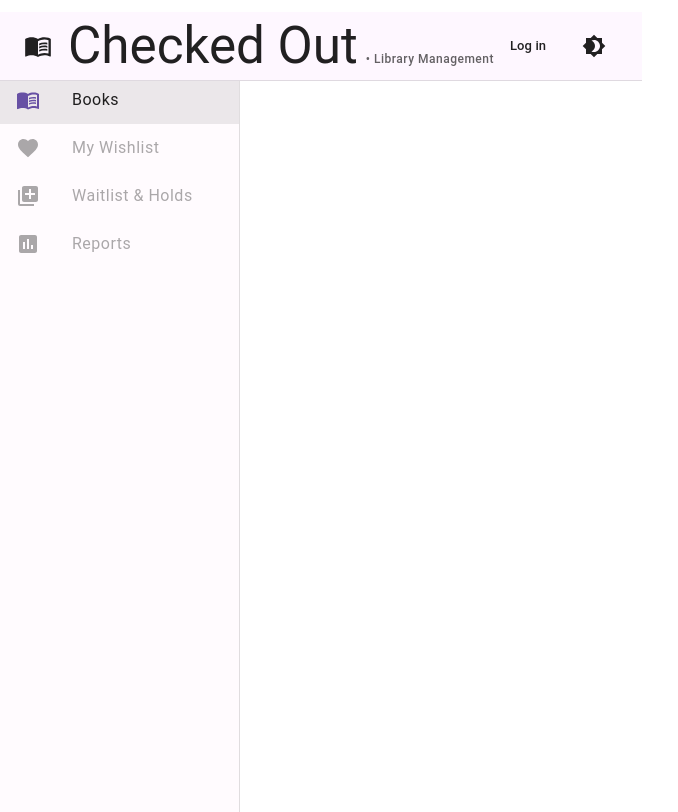
Layout › displays tooltip text on theme toggle button
Hover over the button named "toggle theme" at (594, 46), box 570,22 -> 618,70
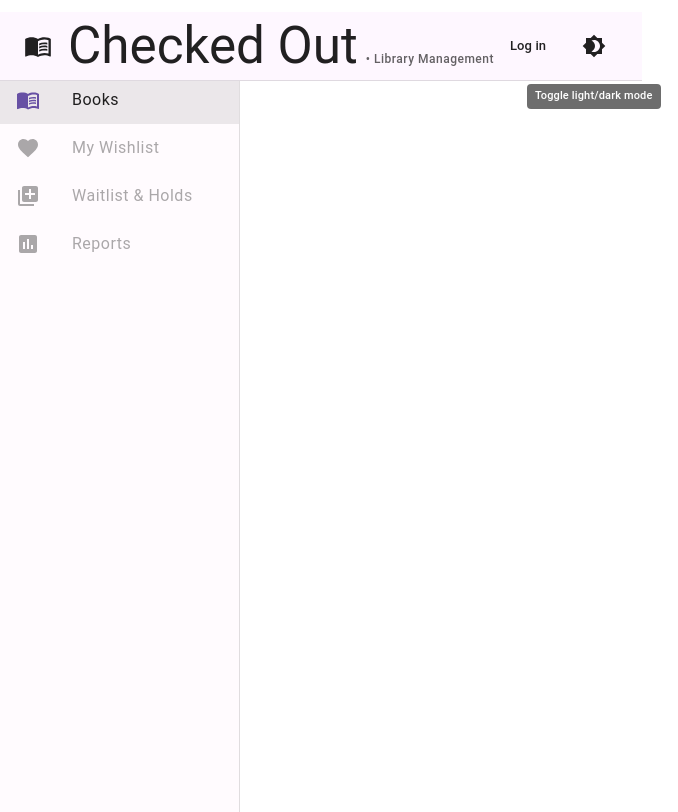
Expected: the text "Toggle light/dark mode" is shown, 527,84 -> 660,108
